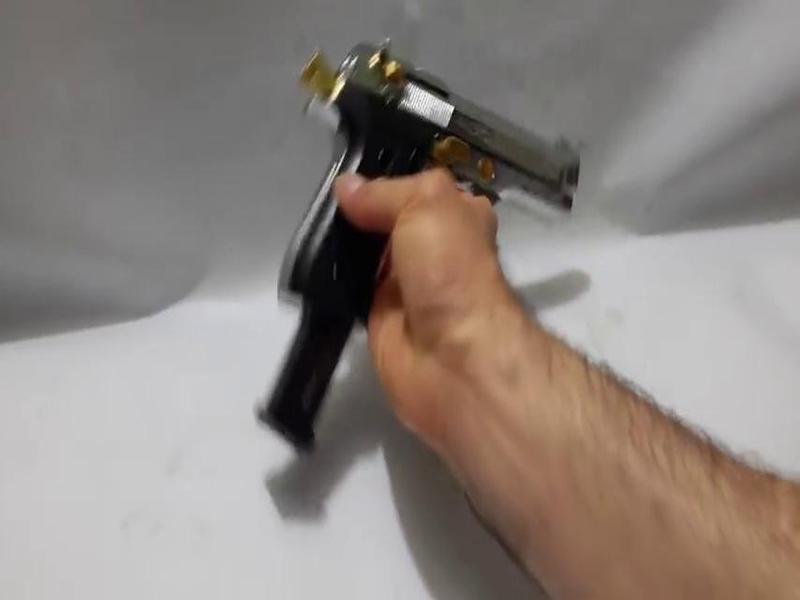Pistola: (270, 42, 597, 314)
